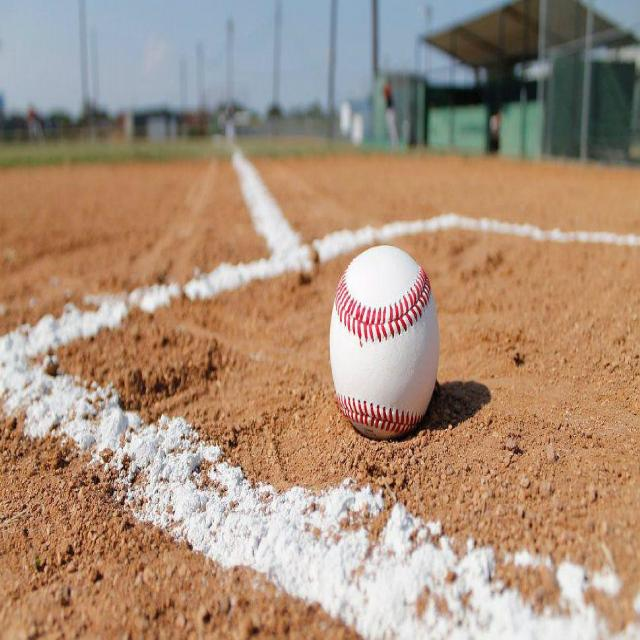baseball: (327, 243, 441, 440)
